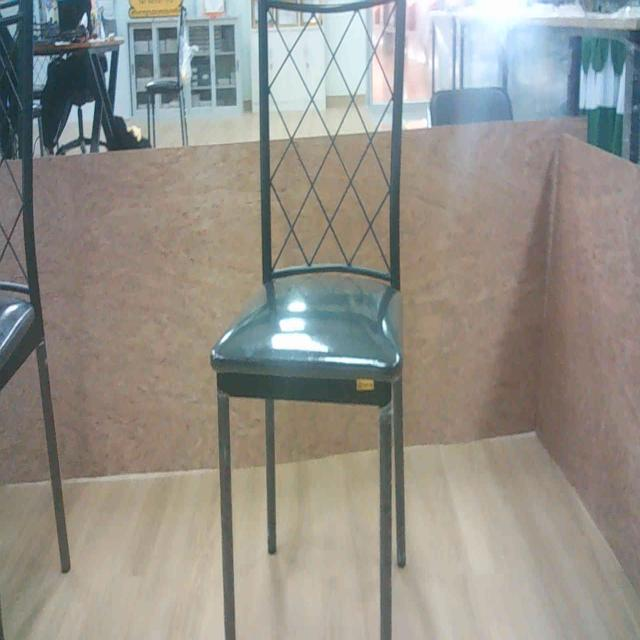emtpy: (211, 0, 415, 640)
